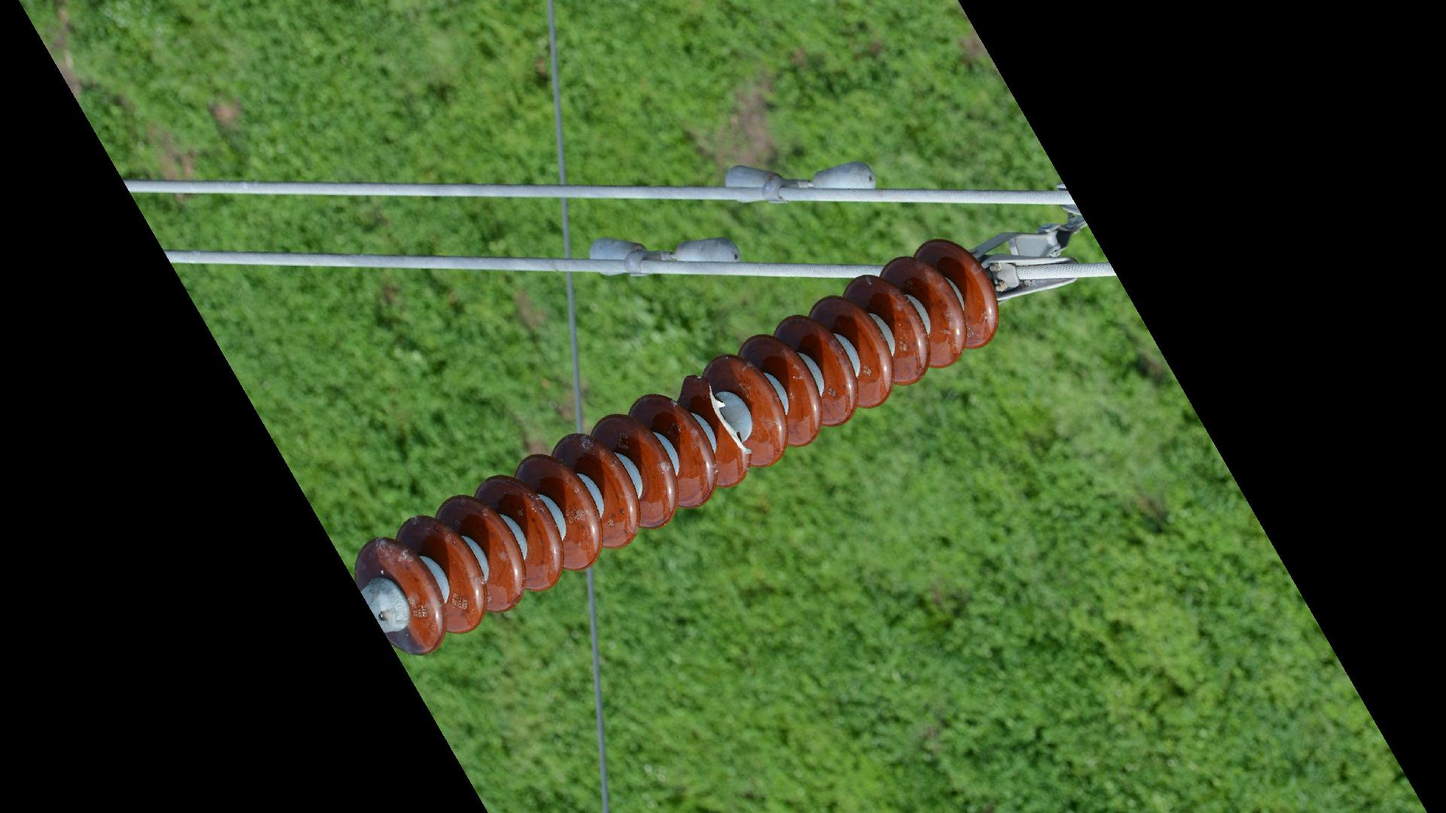insulator: (350, 235, 1005, 659)
insulator_breakage: (698, 373, 759, 462)
